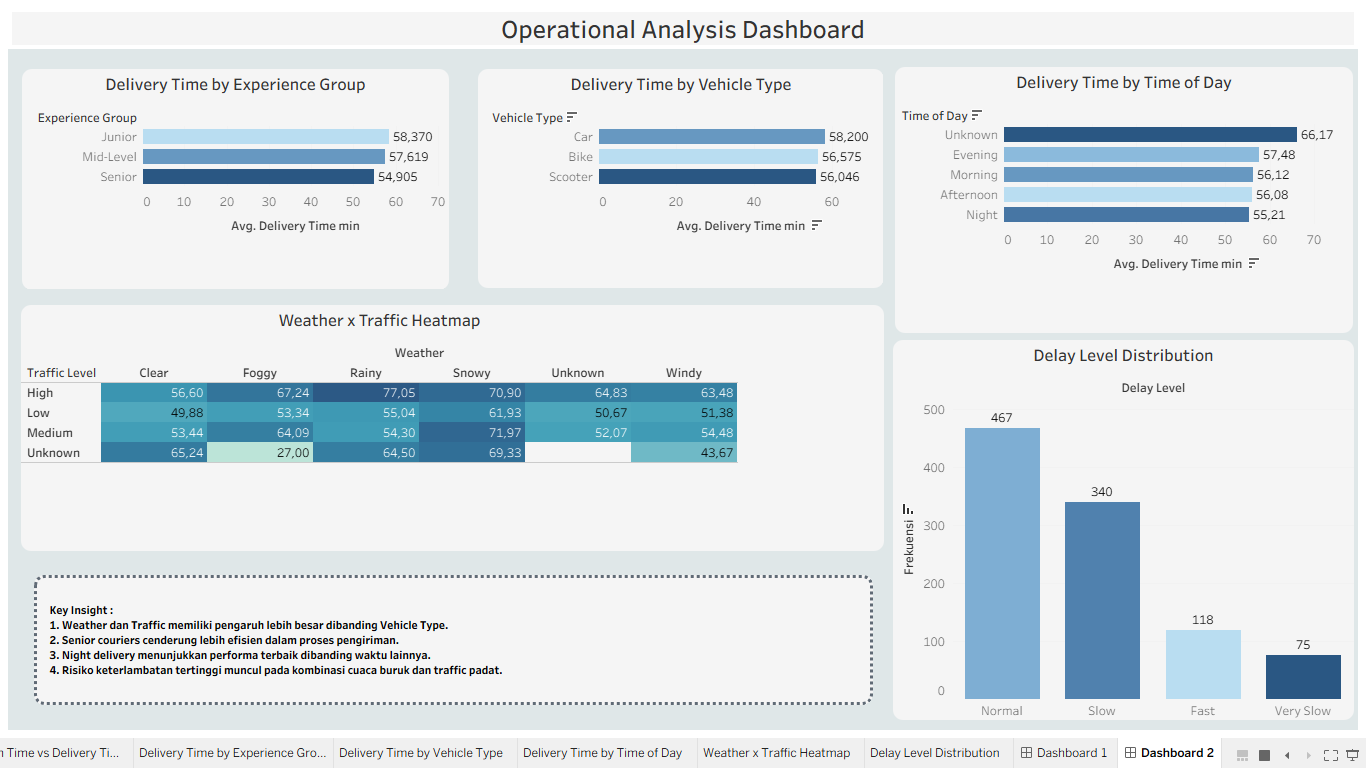

Layout of this report page (visuals, bound fields, positions):
{"tool":"tableau","page":{"name":"Dashboard 2","canvas":[1000,1000],"units":"permille","ordinal":1},"visuals":[{"type":"title","box":[6.9,13.5,986.1,69.2]},{"type":"worksheet","title":"Delivery Time by Time of Day","mark":"Automatic","rows":["Time_of_Day"],"cols":["Delivery_Time_min"],"box":[655.4,91.2,335.1,359.8]},{"type":"worksheet","title":"Delivery Time by Experience Group","mark":"Automatic","rows":["Experience_Group"],"cols":["Delivery_Time_min"],"box":[16.4,92.9,312.6,299]},{"type":"worksheet","title":"Delivery Time by Vehicle Type","mark":"Automatic","rows":["Vehicle_Type"],"cols":["Delivery_Time_min"],"box":[349.8,92.9,297,297.3]},{"type":"worksheet","title":"Weather x Traffic Heatmap","mark":"Square","rows":["Traffic_Level"],"cols":["Weather"],"box":[15.6,413.9,632,332.8]},{"type":"worksheet","title":"Delay Level Distribution","mark":"Automatic","rows":["Order_ID"],"cols":["Delay_Level"],"box":[653.7,461.2,337.7,515.2]},{"type":"text","box":[17.3,765.2,628.6,202.7]}]}

Visuals, with their boxes on the dashboard's canvas, which has no fixed pixel size, in thousandths of its width and height (x1, y1, x2, y2). These are canvas units, not pixel positions in the 1366x768 screenshot, which may show the page scaled, cropped or inside an application window:
title: 7:14:993:83
"Delivery Time by Time of Day" worksheet: 655:91:990:451
"Delivery Time by Experience Group" worksheet: 16:93:329:392
"Delivery Time by Vehicle Type" worksheet: 350:93:647:390
"Weather x Traffic Heatmap" worksheet (Square marks): 16:414:648:747
"Delay Level Distribution" worksheet: 654:461:991:976
text: 17:765:646:968
